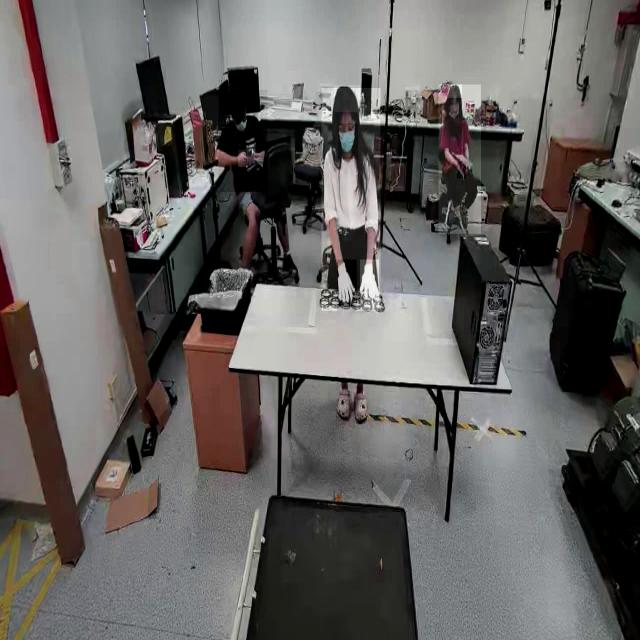face_mask: (338, 124, 358, 159)
hand_glove: (336, 259, 356, 313), (359, 260, 379, 310)
hand_noglove: (238, 149, 248, 168), (456, 161, 466, 179), (247, 146, 255, 164)
head_nohelmet: (334, 85, 360, 113), (231, 91, 247, 110), (448, 85, 462, 98)
person: (321, 88, 381, 312), (438, 84, 481, 234), (218, 90, 268, 193)
shoes: (457, 196, 473, 232), (444, 195, 458, 230)
